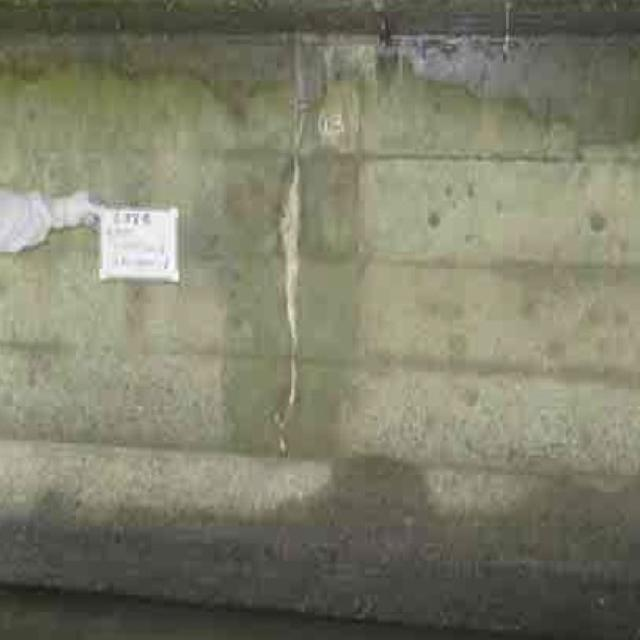freelime: (273, 148, 333, 416)
leakage: (17, 21, 613, 103)
